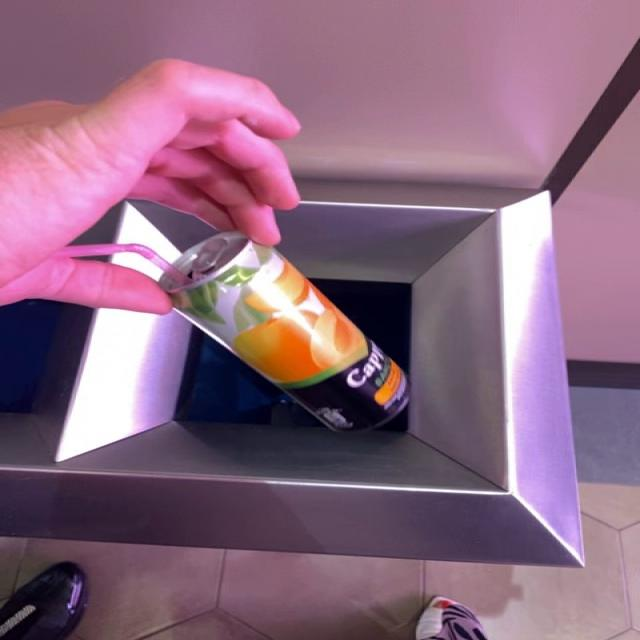bin: (3, 181, 584, 568)
metal: (159, 233, 376, 390)
